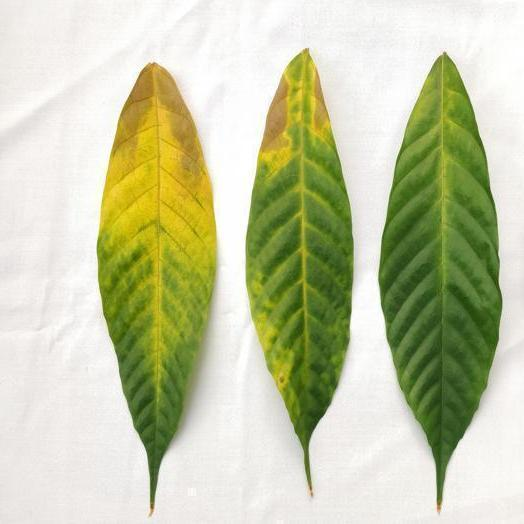Healthy Leaf: (379, 53, 501, 510)
Potassium: (97, 63, 216, 513), (246, 49, 353, 494)
